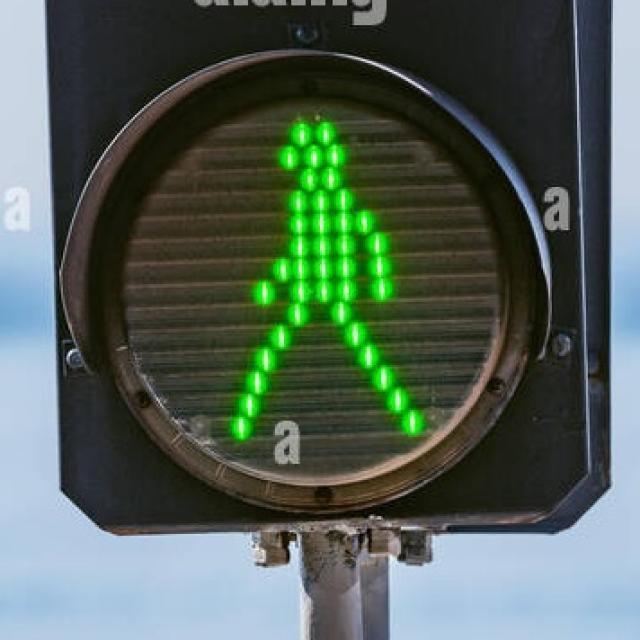geen-crossing: (212, 101, 441, 428)
